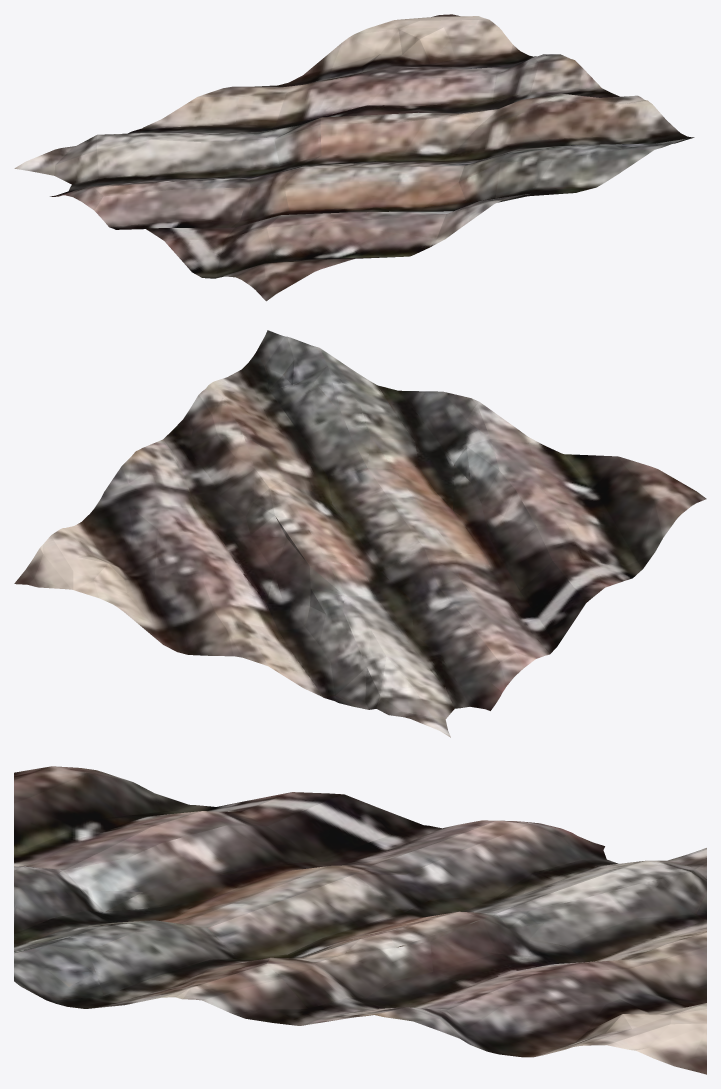
The picture shows the model from 3 angles, top to bottom: view 1: azimuth 30°, elevation 25°; view 2: azimuth 150°, elevation 25°; view 3: azimuth 270°, elevation 25°; orthographic projection. The views are drawn at different scales.
Bounding box in the file's own units: 0.8374 × 0.2104 × 0.8374.
Materials: 3 (3 with a texture image).
